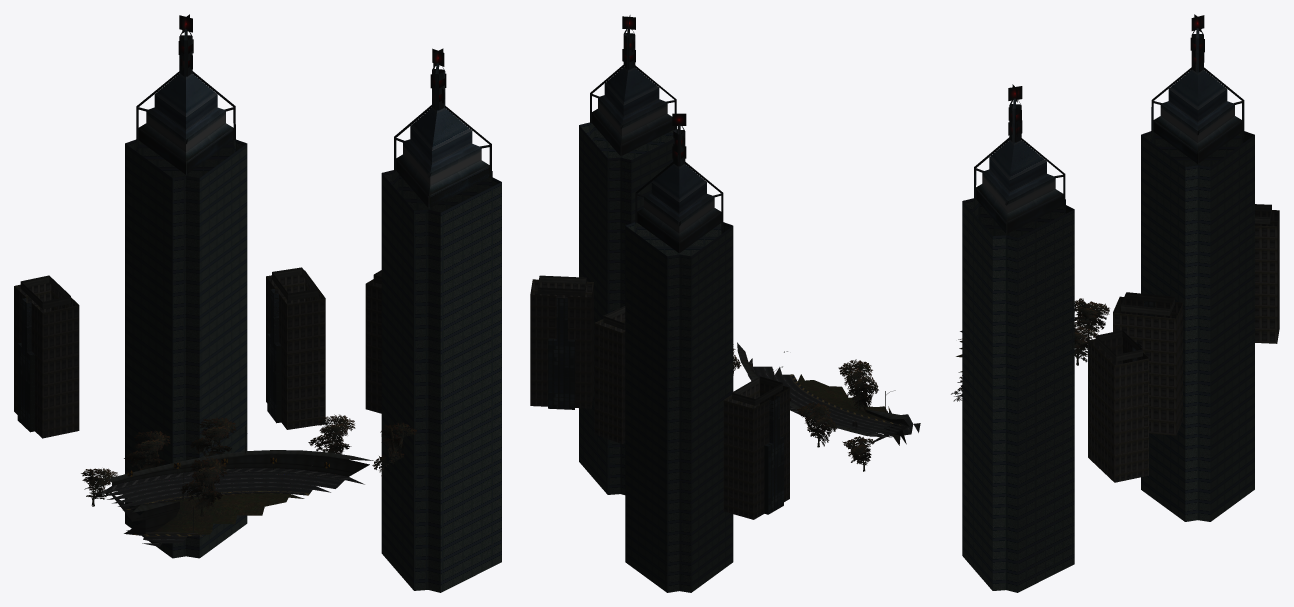
File: cell_3_-4.gltf
The picture shows the model from 3 angles, left to right: view 1: azimuth 30°, elevation 25°; view 2: azimuth 150°, elevation 25°; view 3: azimuth 270°, elevation 25°; orthographic projection. The views are drawn at different scales.
Visible parts, largest first — view 1: cell_3_-4; view 2: cell_3_-4; view 3: cell_3_-4.
Part boxes in pixels (<box>): cell_3_-4: <box>14,14,501,592</box>; cell_3_-4: <box>530,15,920,592</box>; cell_3_-4: <box>951,14,1279,592</box>.
Size of the model in its own units: 199 by 262 by 163.
24 materials, 24 textured.
